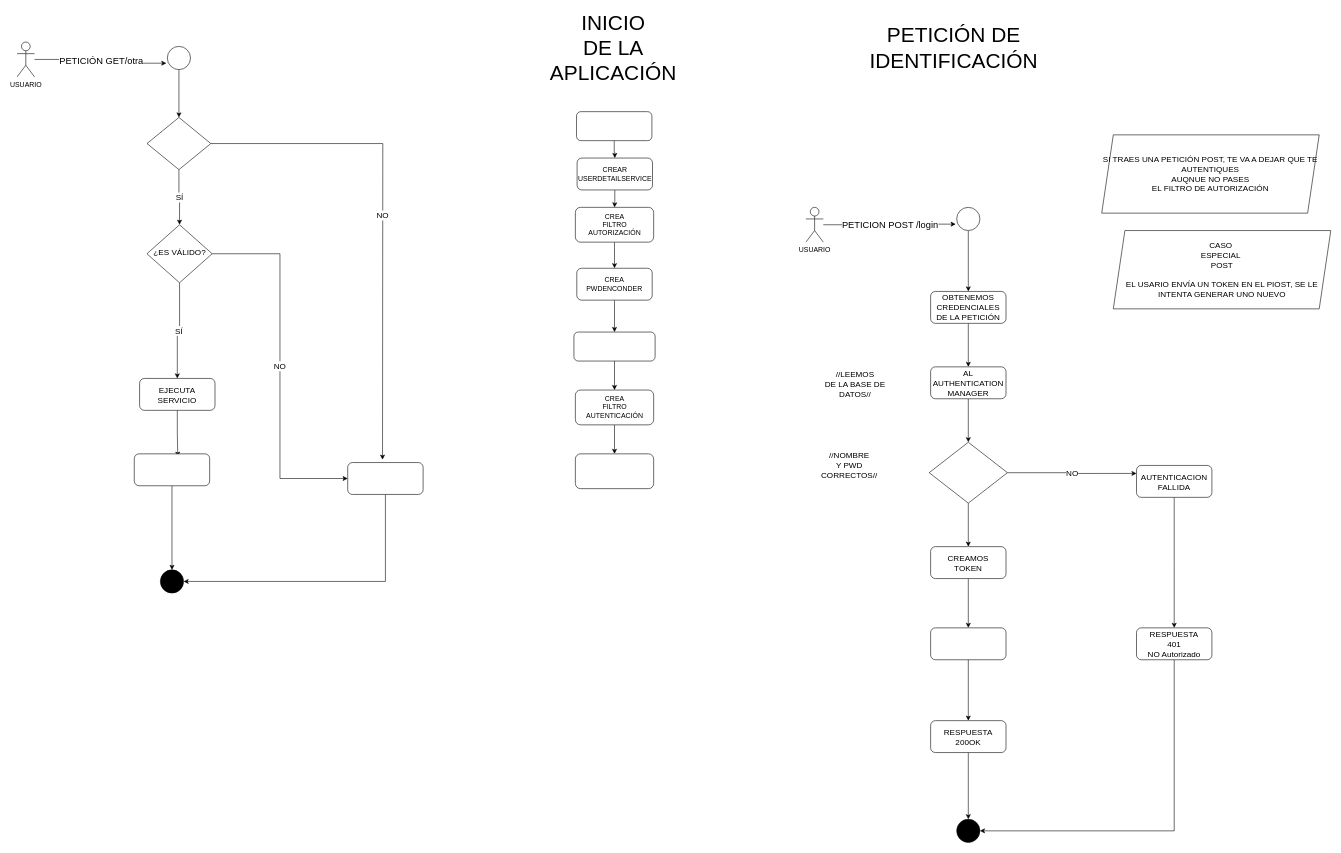
The diagram is 1341 pixels wide and 853 high, and some of its shapes have lost their labels. The shapes that lost their labels are listed below. From the top down, each one's centre as x and y in pixels, then its label:
(178,143): ¿TRAE TOKEN?
(614,126): LEVANTA EL CONTEXTO
(614,346): CREA AUTHENTICATION MANAGER
(172,469): GENERA RESPUESTA
(385,478): RESPUESTA 403 PROHIBIDO
(614,471): CREA CADENA SEGURIDAD
(968,472): ¿AUTENTICACIÓN OK?
(968,643): ADD CABECERA A LA RESPUESTA
